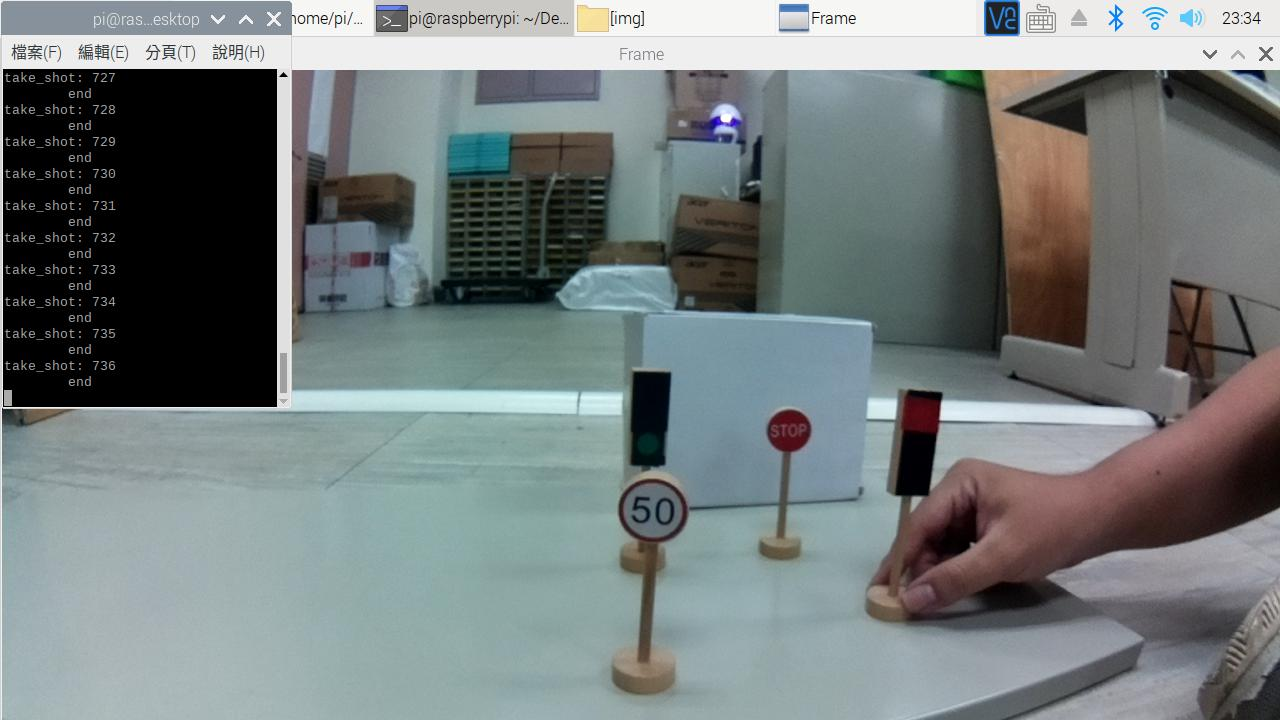Green: (629, 369, 673, 464)
Red: (894, 387, 939, 492)
Speed50: (614, 473, 689, 542)
Stop: (769, 408, 809, 451)
